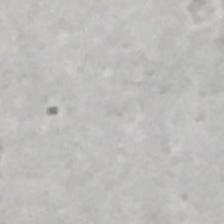Non_Crack: (8, 17, 218, 189)
